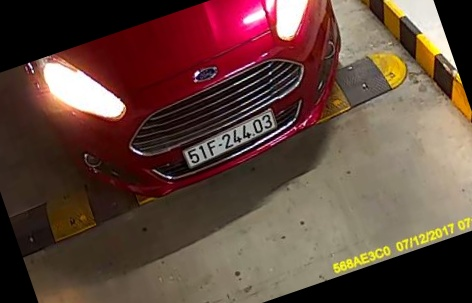plate: (181, 107, 284, 170)
